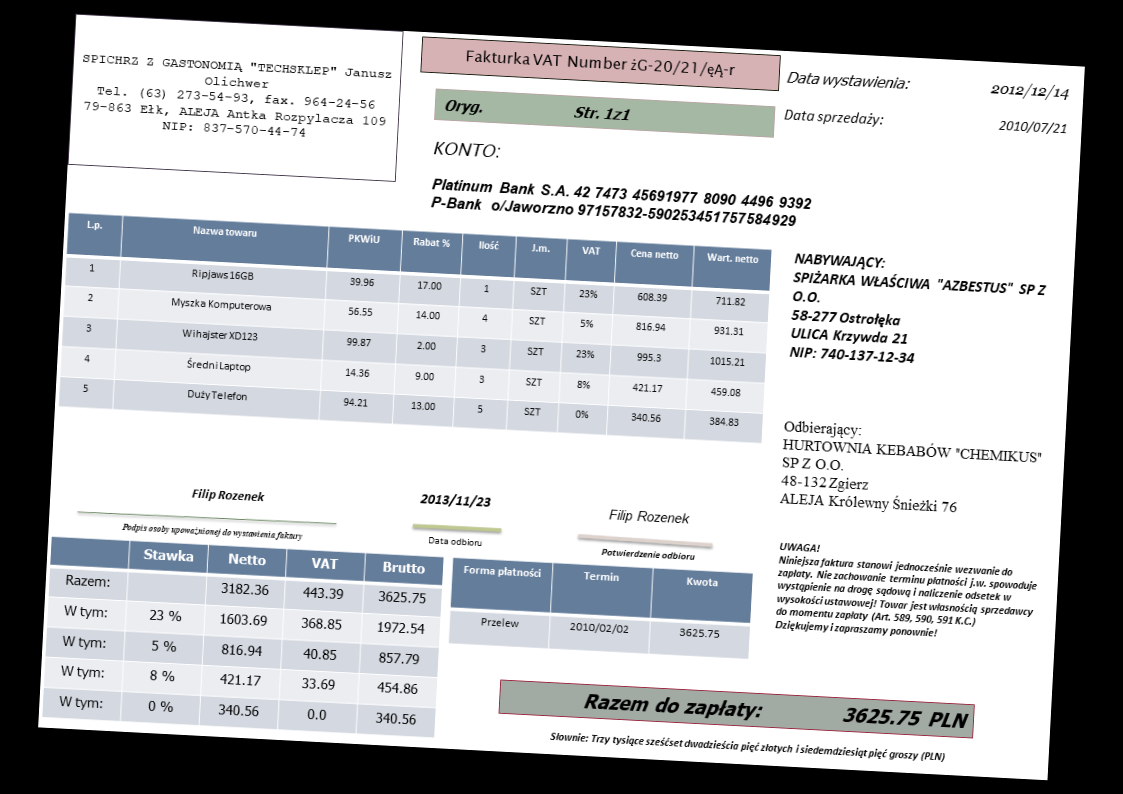Table: (57, 211, 773, 445), (40, 535, 445, 738), (447, 554, 756, 662)
TextBox: (786, 250, 1052, 375), (78, 49, 393, 146), (773, 539, 1040, 645), (777, 418, 1044, 520), (428, 174, 817, 234), (581, 687, 969, 734), (546, 729, 948, 766), (462, 45, 739, 82), (442, 95, 633, 126), (120, 520, 305, 543), (783, 68, 914, 93), (780, 107, 886, 130), (605, 505, 693, 528), (989, 80, 1071, 103), (599, 546, 698, 564), (995, 115, 1069, 138), (416, 489, 492, 511), (190, 484, 265, 506), (431, 139, 502, 161), (423, 532, 484, 551)
